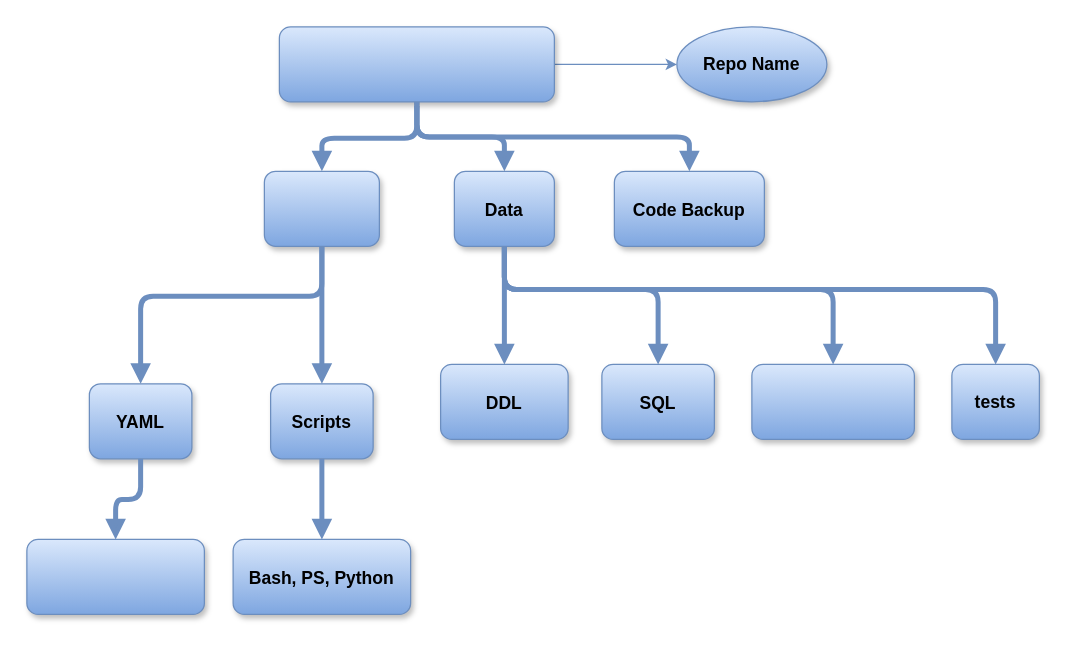
Image size: 1069x645. Some labels were removed from this diagram. The centre of each missing label's shape, as x and y in pixels:
"Matillion Jobs" goes at [834,403].
"Pipeline" goes at [322,210].
"Settle.Assist" goes at [417,66].
"YAML Config files" goes at [116,578].
